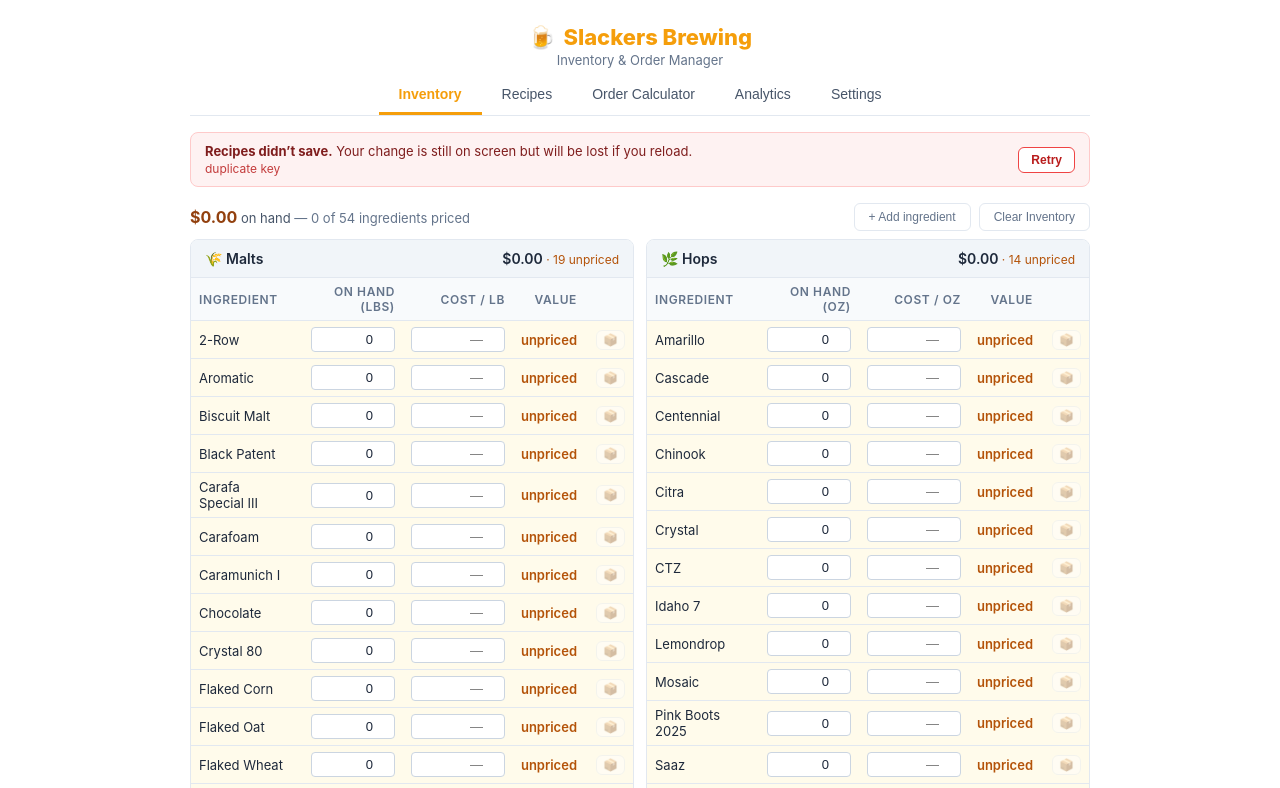
Test: pricing an ingredient with no inventory row › accepts a price and folds it into the total
This screenshot has width=1280, height=788.
Click the button "Recipes".
click(527, 96)  # box [482,76,572,115]
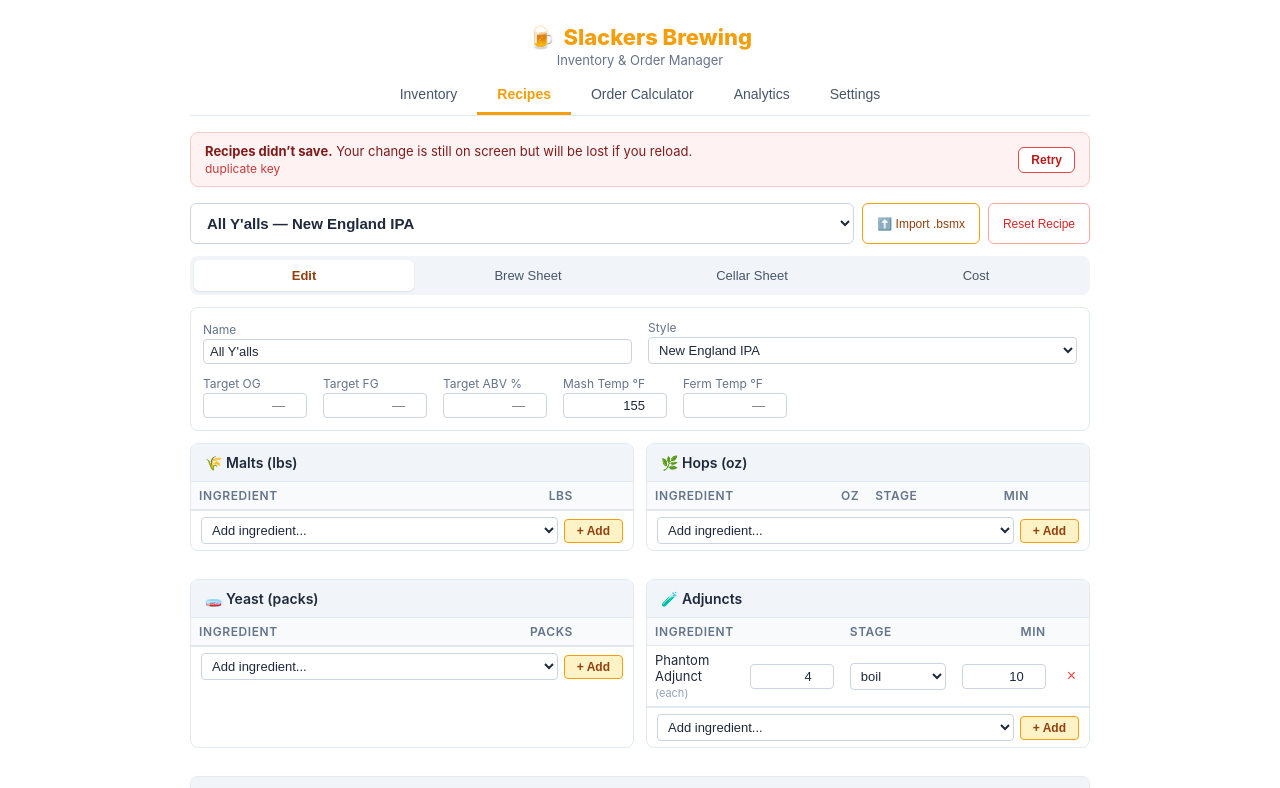
Click the button "Cost".
click(976, 276)  # box [866,260,1086,291]
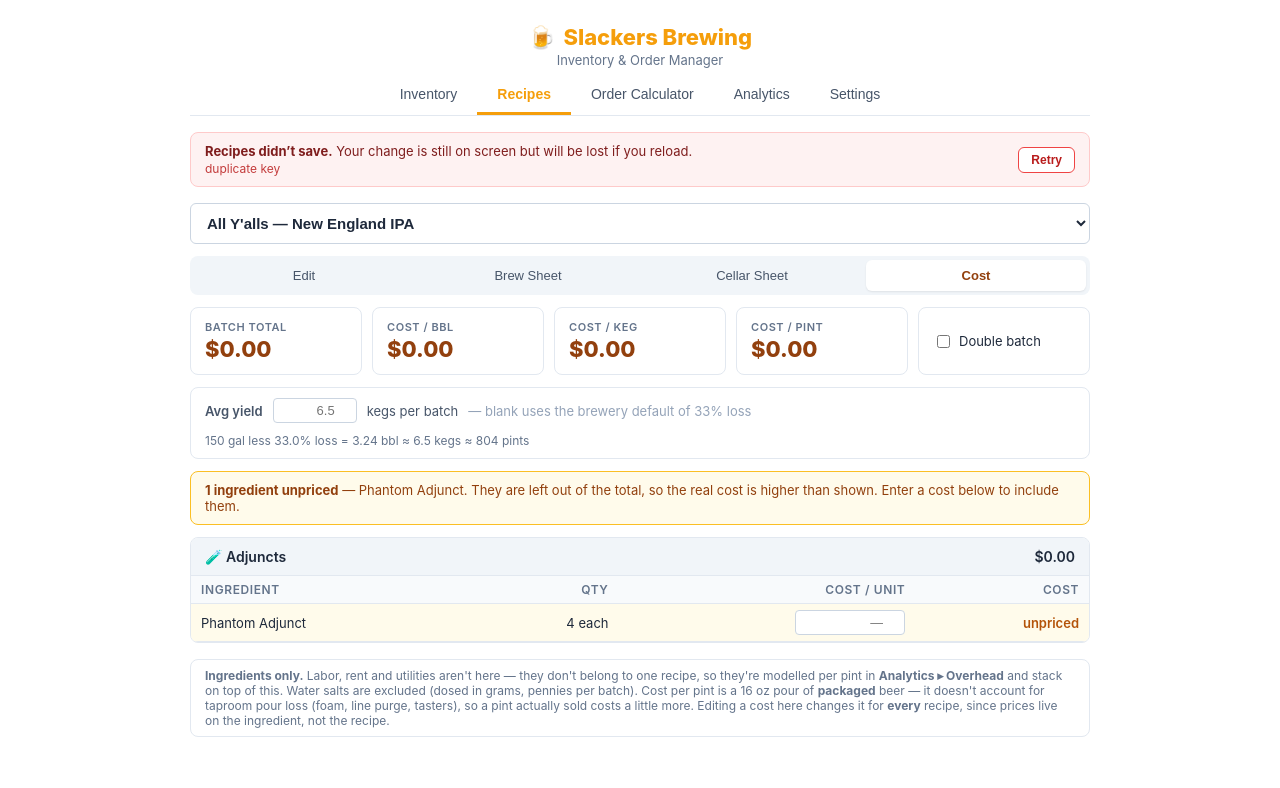
Check: the text "1 ingredient unpriced" is shown, box [205,482,338,498]
Check: the number field named "Cost per each of Phantom Adjunct" is not empty
Type "2.50" into the number field named "Cost per each of Phantom Adjunct".
click(850, 622); type("2.50")  # box [795,610,905,635]
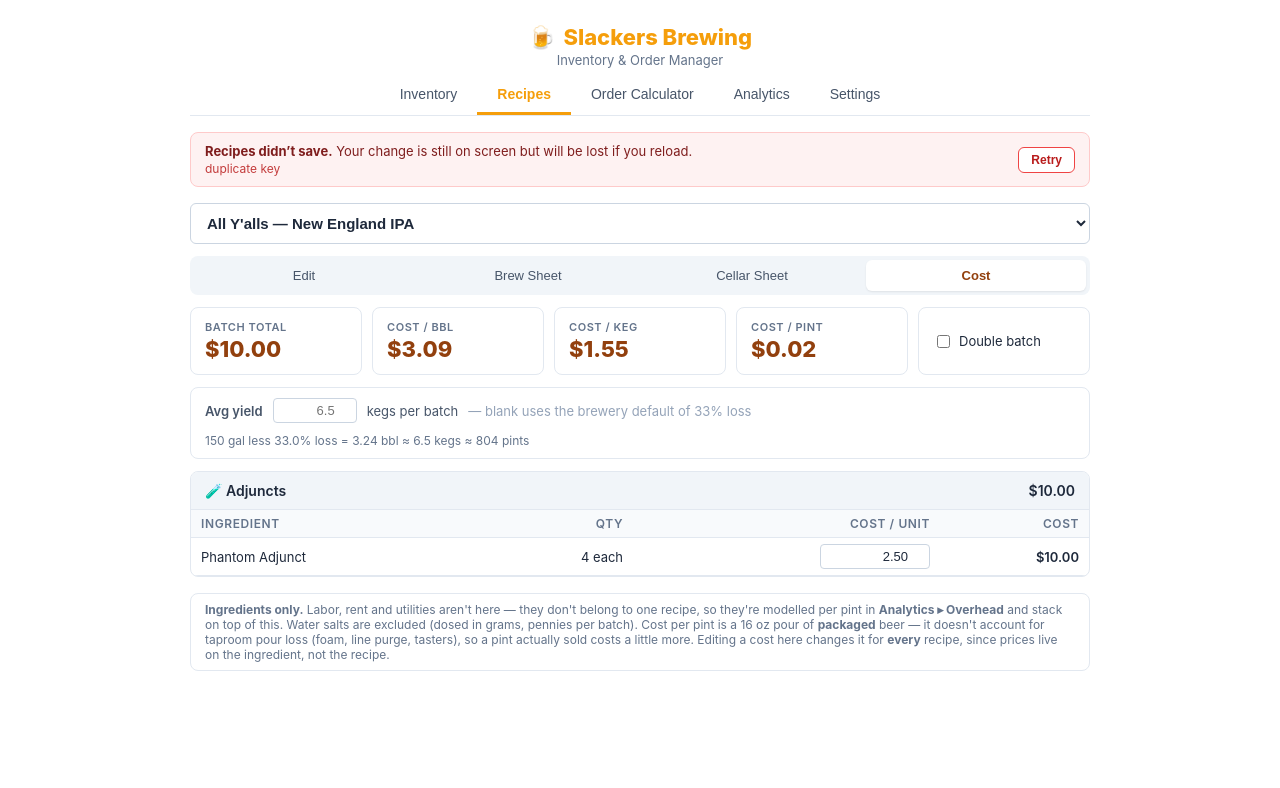
Check: the text "$10.00" is shown, box [940,538,1089,576]
Check: the text "ingredient unpriced" is gone
